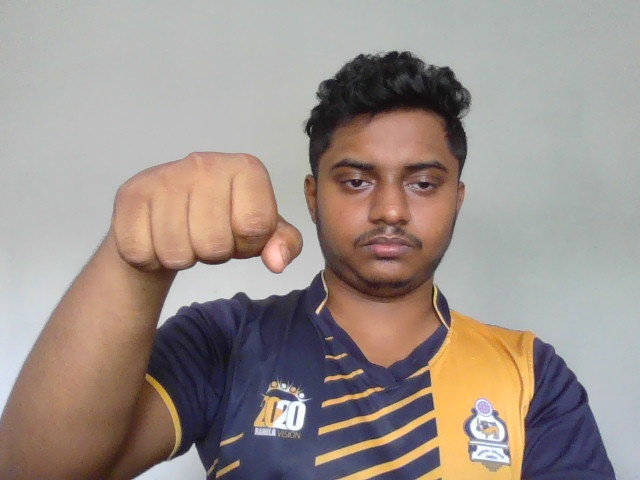Yes: (111, 149, 306, 275)
